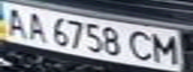5: (81, 21, 106, 54)
6: (45, 15, 69, 47)
7: (63, 18, 87, 51)
8: (100, 25, 127, 57)
A: (0, 4, 30, 38), (21, 10, 51, 43)
C: (124, 28, 157, 62)
M: (148, 30, 184, 65)
